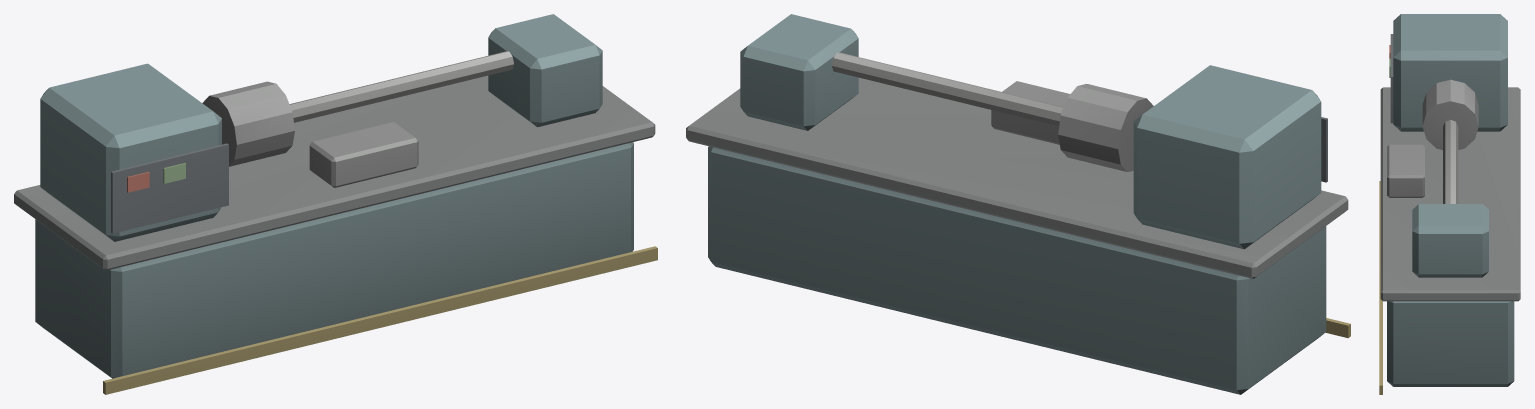
File: int_lathe.glb
3 renders of one model, left to right at view 1: azimuth 30°, elevation 25°; view 2: azimuth 150°, elevation 25°; view 3: azimuth 270°, elevation 25°, orthographic. The views are drawn at different scales.
Parts seen in each view (by area): view 1: int_lathe; view 2: int_lathe; view 3: int_lathe.
Boxes of the visible parts, x1=… form: int_lathe: x1=14, y1=14, x2=657, y2=394; int_lathe: x1=686, y1=14, x2=1350, y2=394; int_lathe: x1=1379, y1=14, x2=1520, y2=394.
Bounding box in the file's own units: 3.8 × 1.6 × 1.11.
